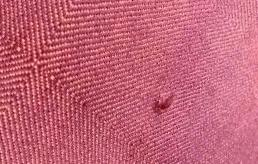knot: (151, 91, 180, 118)
